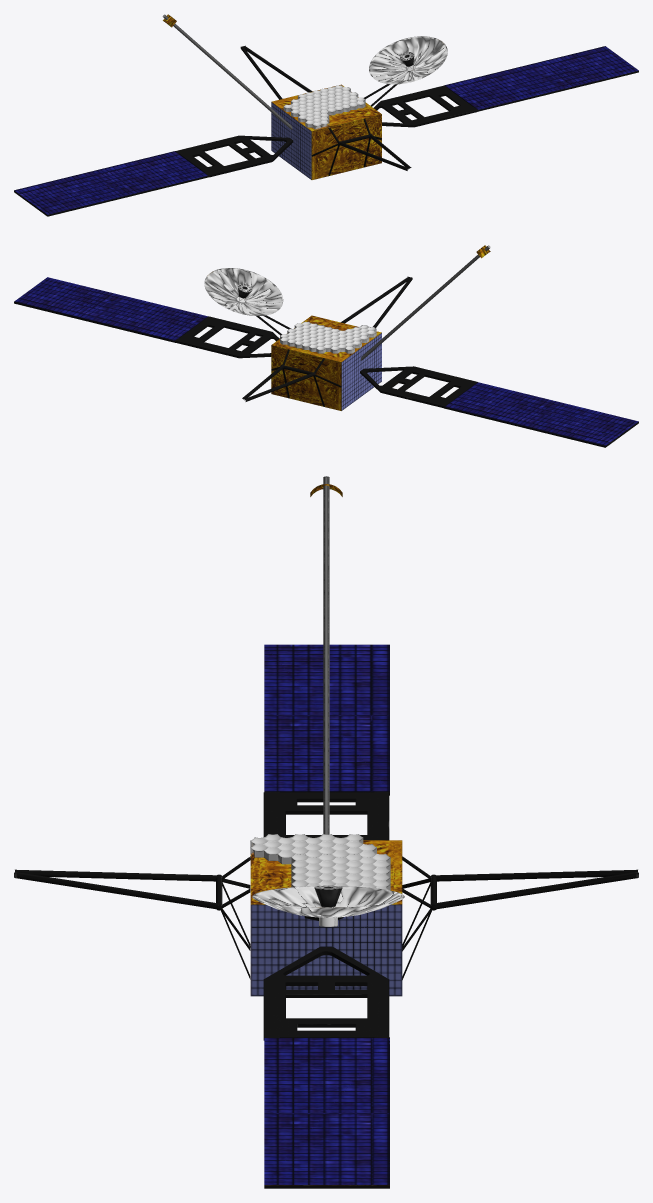
Rendered from Tracking and Data Relay Satellites (TDRS) (C).glb.
3 views of the same model, one above another, from view 1: azimuth 30°, elevation 25°; view 2: azimuth 150°, elevation 25°; view 3: azimuth 270°, elevation 25° (orthographic). The views are drawn at different scales.
Visible parts, largest first — view 1: tdrs_no_an; view 2: tdrs_no_an; view 3: tdrs_no_an.
Boxes of the visible parts, box(x1,y1,x2,y2) form: tdrs_no_an: box(14, 14, 638, 216); tdrs_no_an: box(14, 245, 638, 447); tdrs_no_an: box(14, 476, 638, 1188).
Bounding box in the file's own units: 40.73 × 11.95 × 19.91.
Materials: 11 (11 with a texture image).
